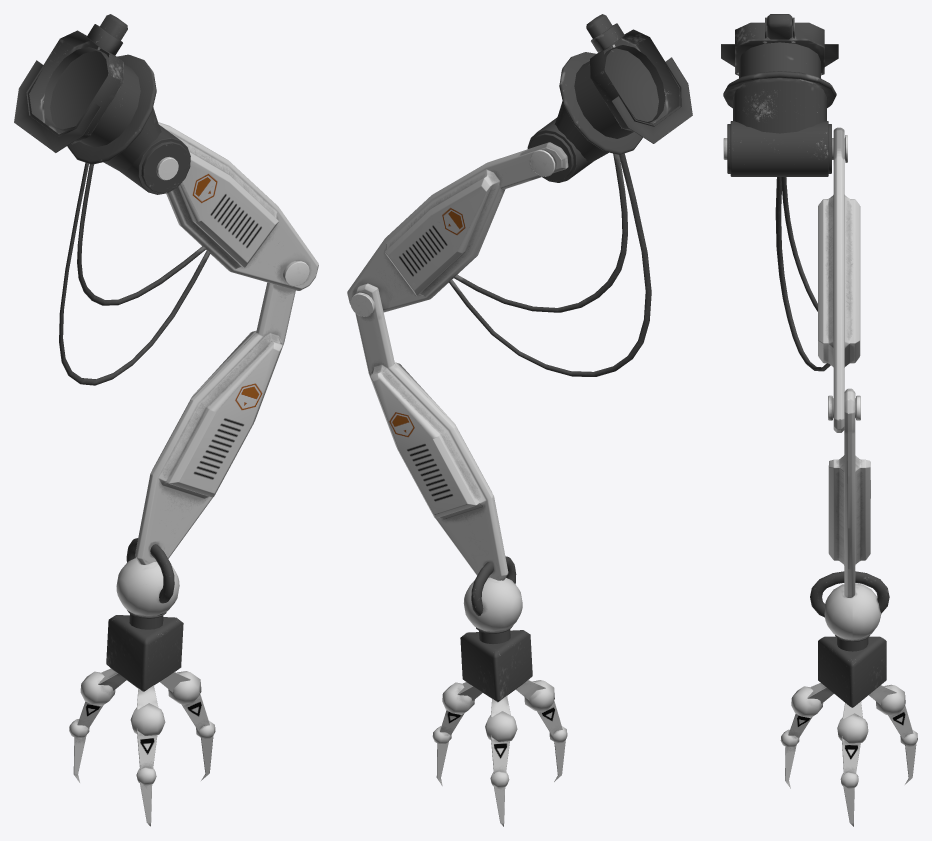
The model's file is robot.obj.
3 views of the same model, side by side, from view 1: azimuth 30°, elevation 25°; view 2: azimuth 150°, elevation 25°; view 3: azimuth 270°, elevation 25° (orthographic). The views are drawn at different scales.
Visible parts, largest first — view 1: Box153; view 2: Box153; view 3: Box153.
Boxes of the visible parts, left/top/right/bottom form: Box153: left=14, top=14, right=318, bottom=826; Box153: left=347, top=14, right=692, bottom=826; Box153: left=721, top=14, right=917, bottom=826.
Size of the model in its own units: 1.01 by 2.52 by 0.5956.
1 material, 1 textured.
